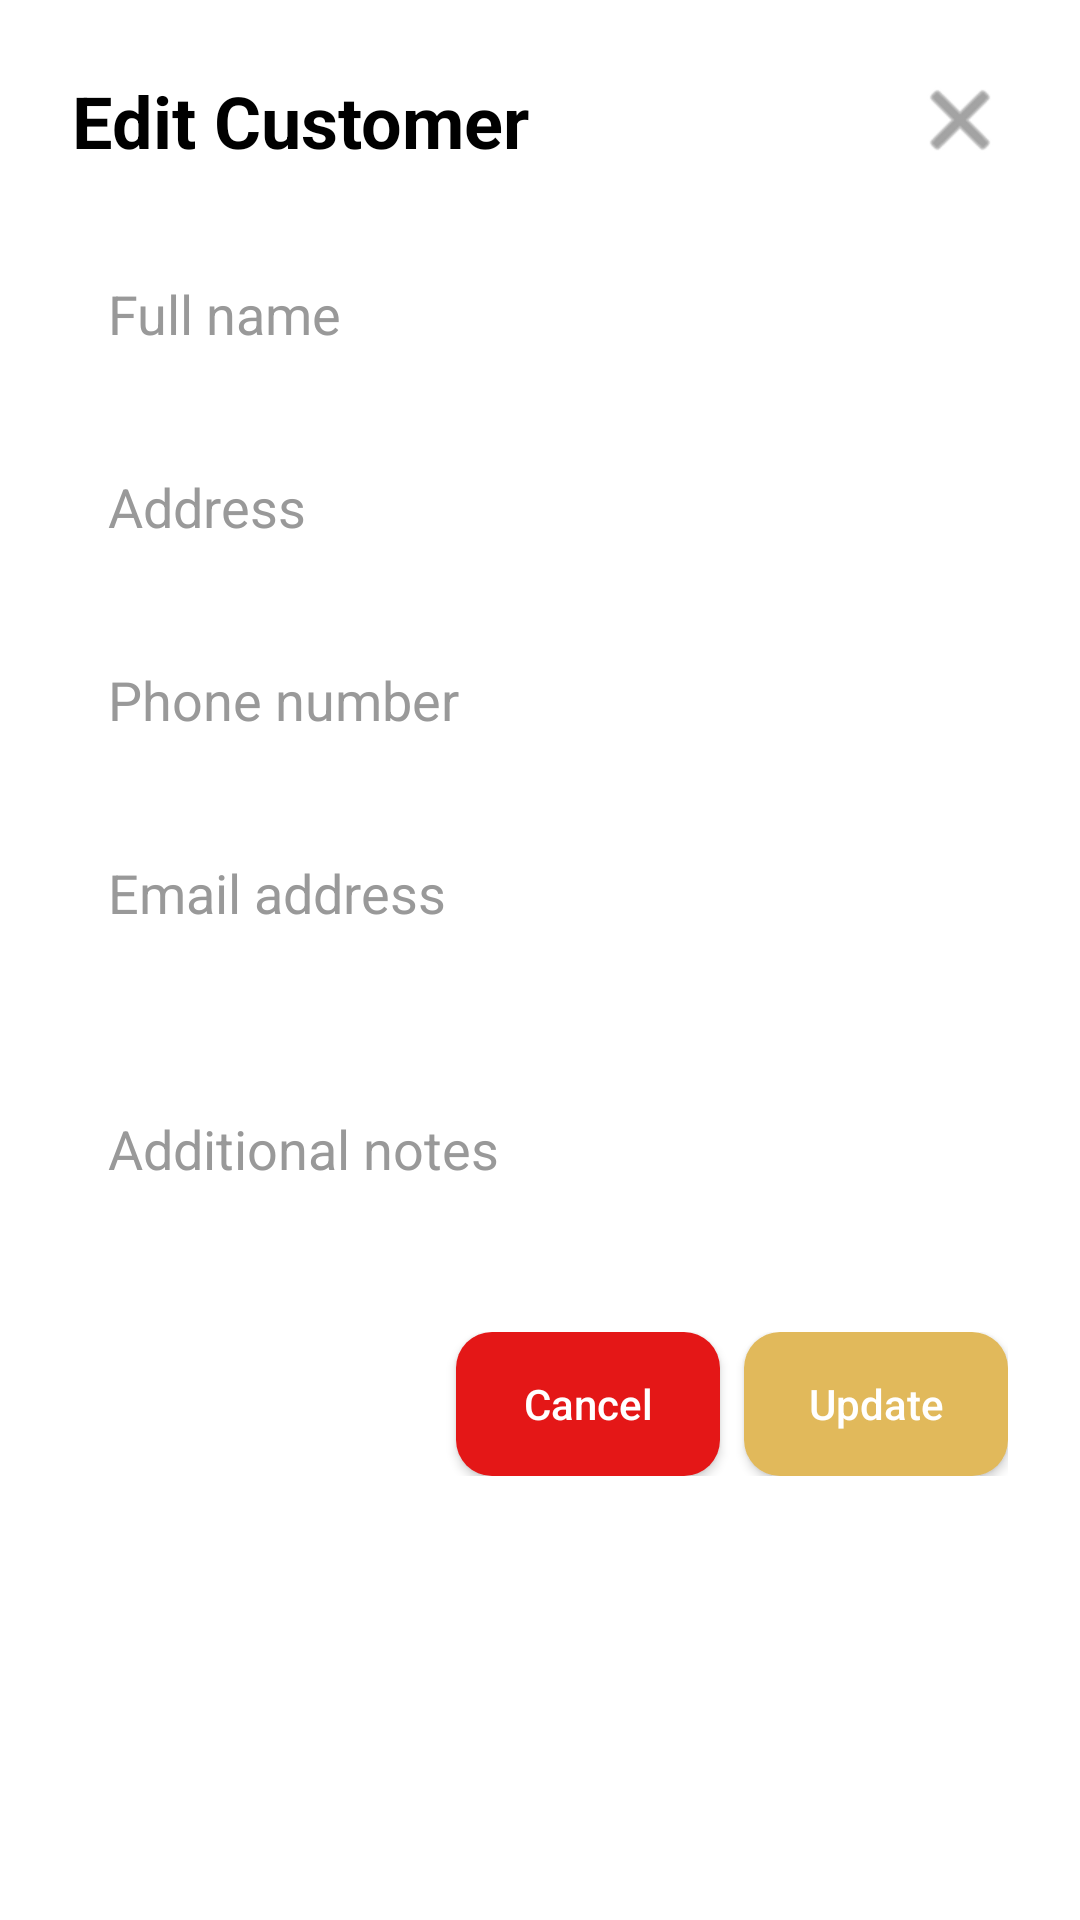

Where to tap for icons on this 1080px×1920px app screen, as (x=x, y=y):
Close: (x=960, y=120)
